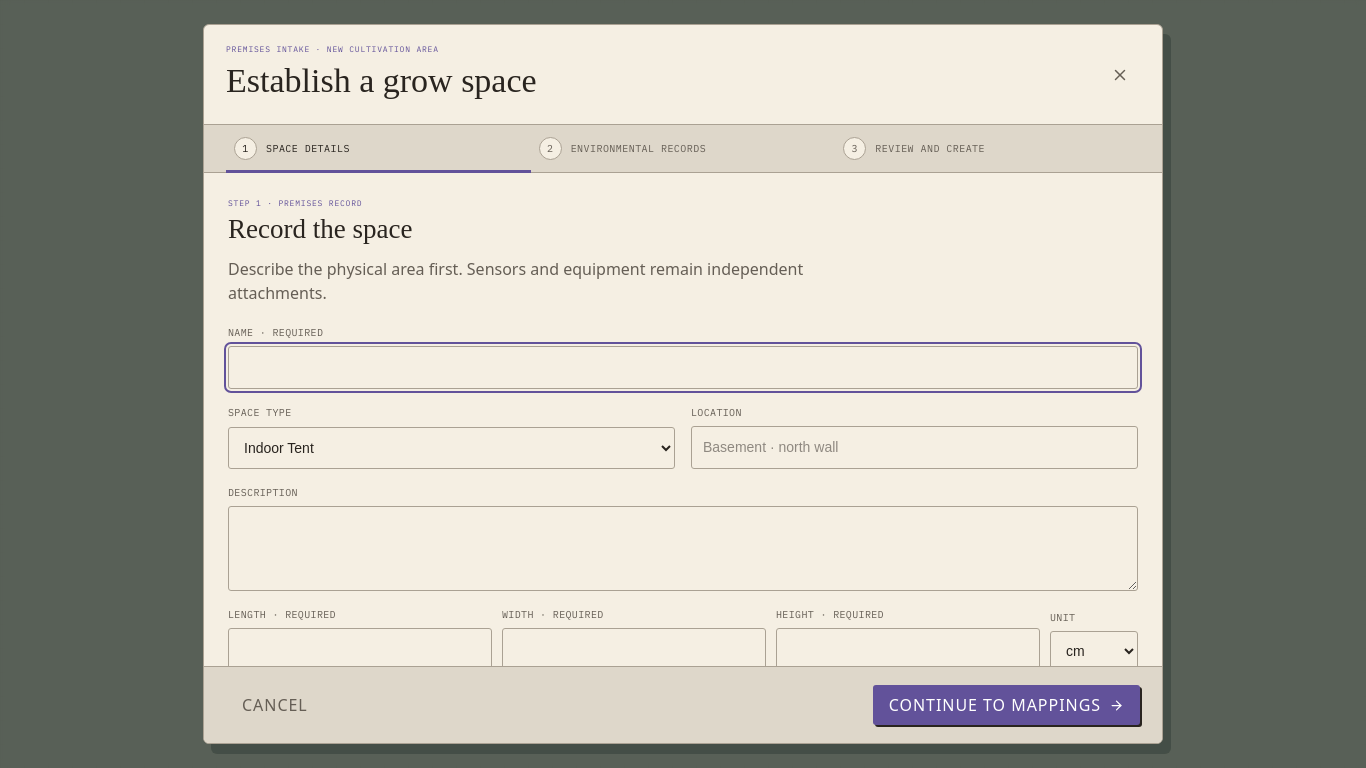
Test: GrowSpaceWizard › does not advance without a name
Click the button "Continue to mappings" at (1006,705), box [873,685,1140,725]
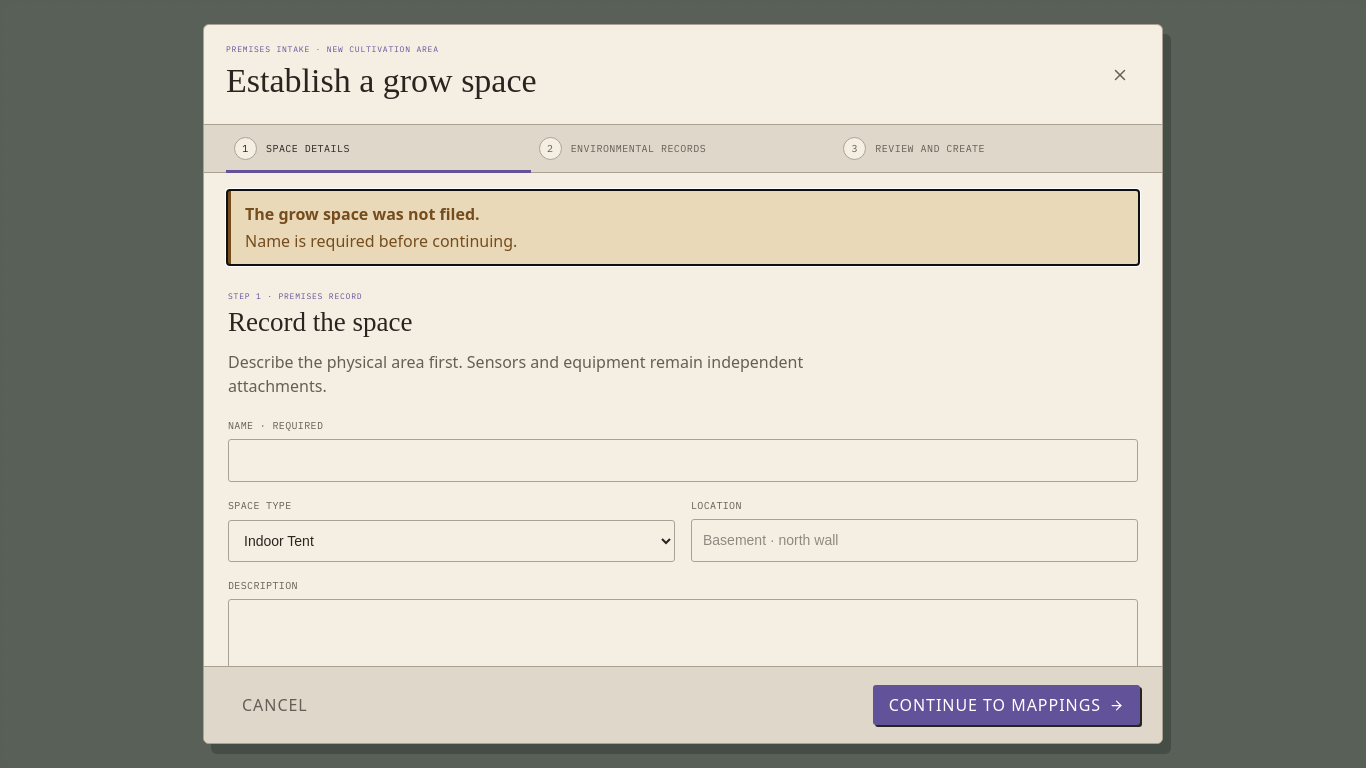
Expected: the heading "Record the space" is shown, [228,307,412,337]
Now the message shows "Name is required", box [245,230,517,252]
